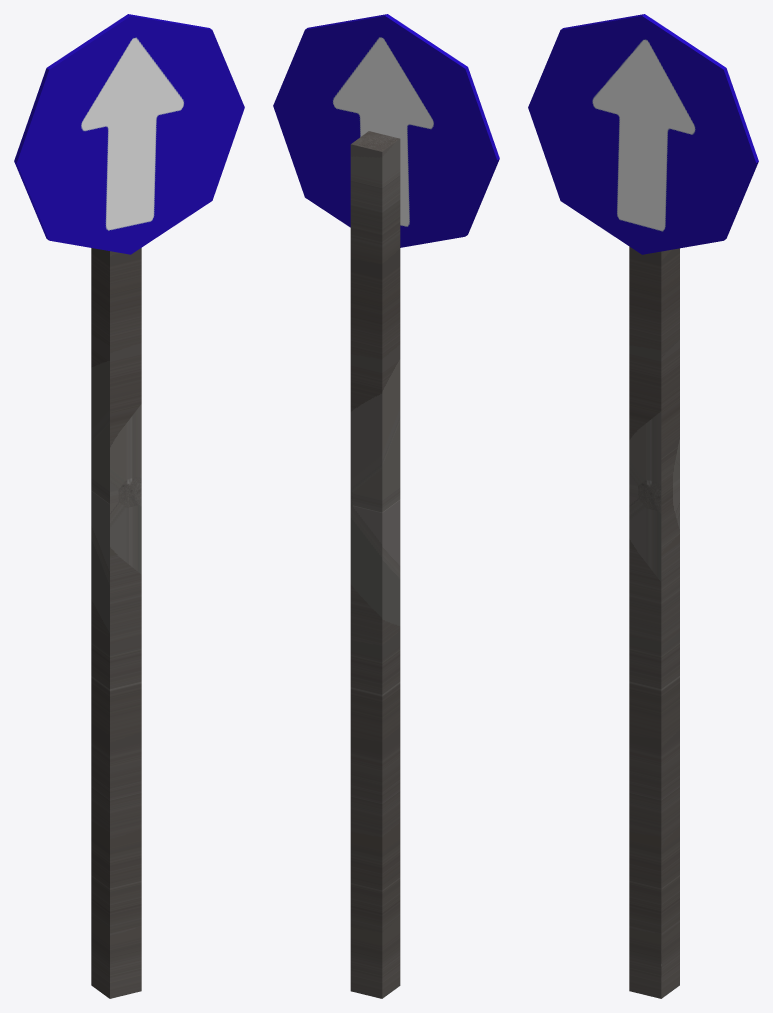
Rendered from PlacaFrente.fbx.
3 views of the same model, side by side, from view 1: azimuth 30°, elevation 25°; view 2: azimuth 150°, elevation 25°; view 3: azimuth 330°, elevation 25° (orthographic).
Visible parts, largest first — view 1: Placa6; view 2: Placa6; view 3: Placa6.
Boxes of the visible parts, <box> form: Placa6: <box>14,14,244,998</box>; Placa6: <box>273,14,499,998</box>; Placa6: <box>528,14,758,998</box>.
Bounding box in the file's own units: 77.29 × 318 × 13.26.
